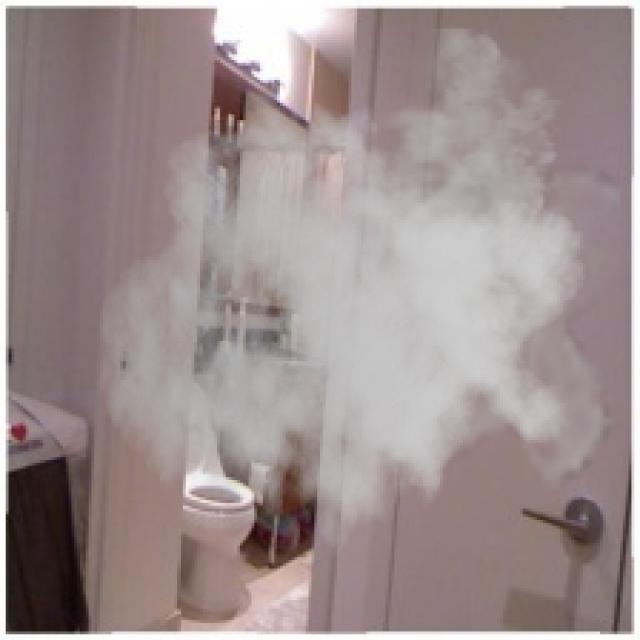smoke: (97, 29, 620, 580)
